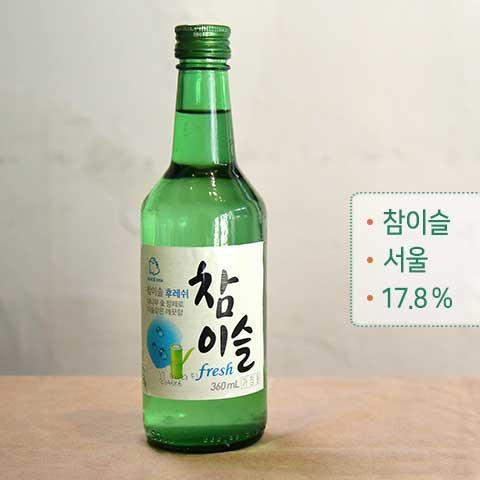soju: (138, 20, 271, 456)
